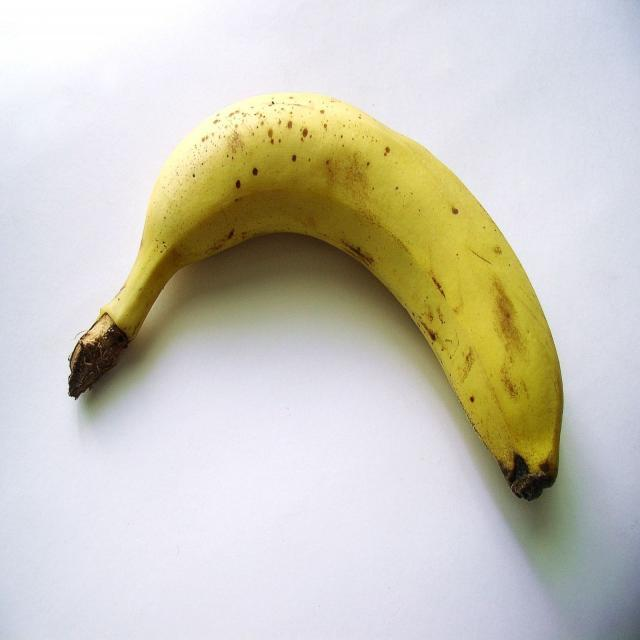Banana: (54, 84, 566, 502)
